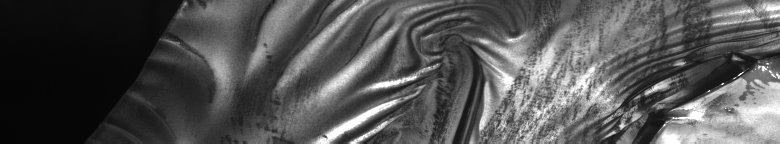ke: (184, 4, 776, 136)
